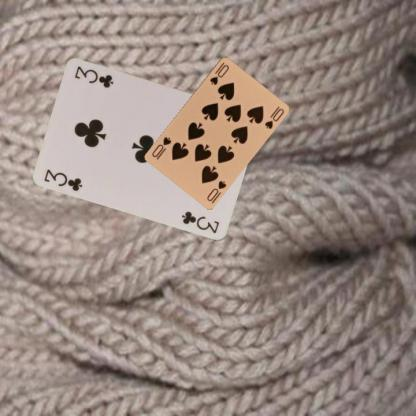10s: (207, 60, 230, 86), (204, 178, 228, 202)
3c: (42, 166, 84, 192)
